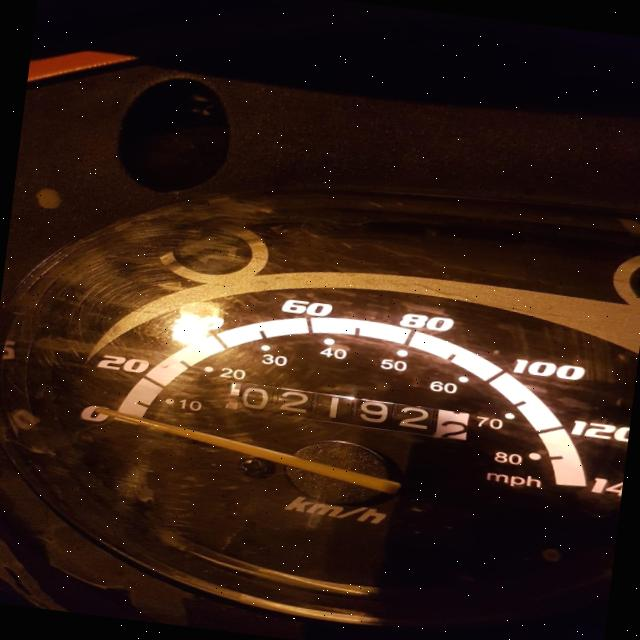odometer: (218, 377, 475, 447)
